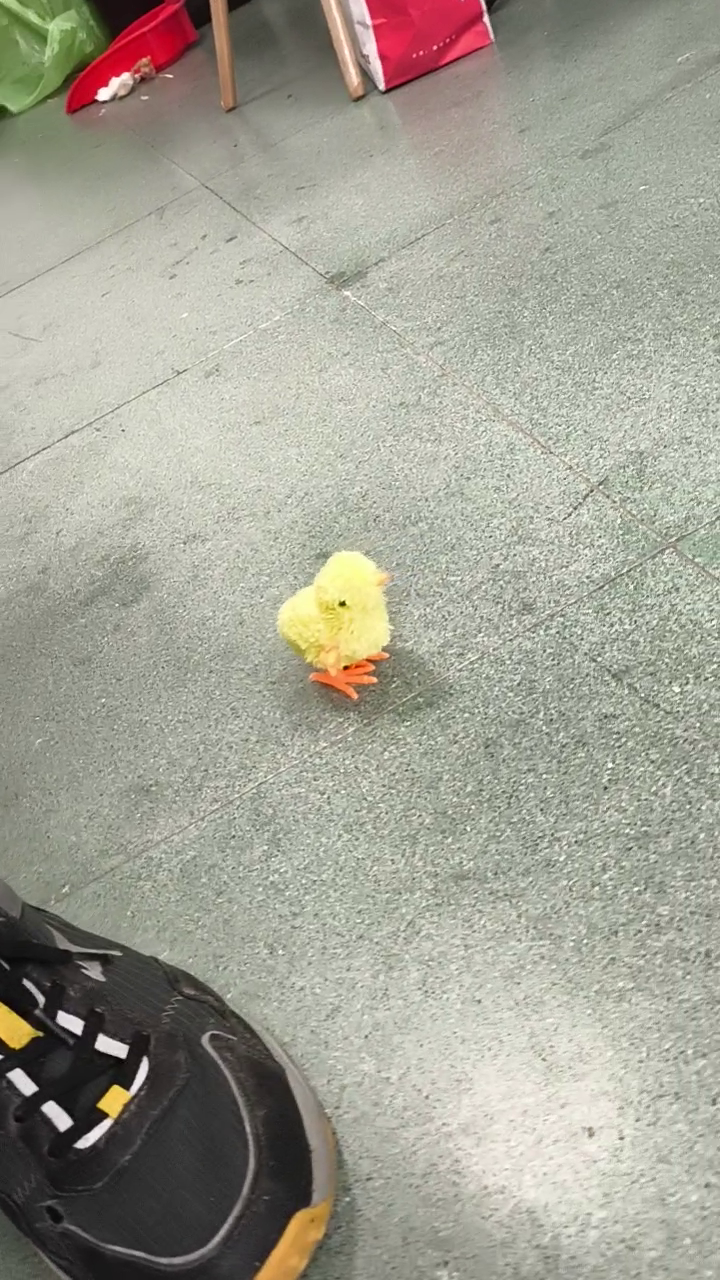yellow chicken: (274, 547, 401, 703)
